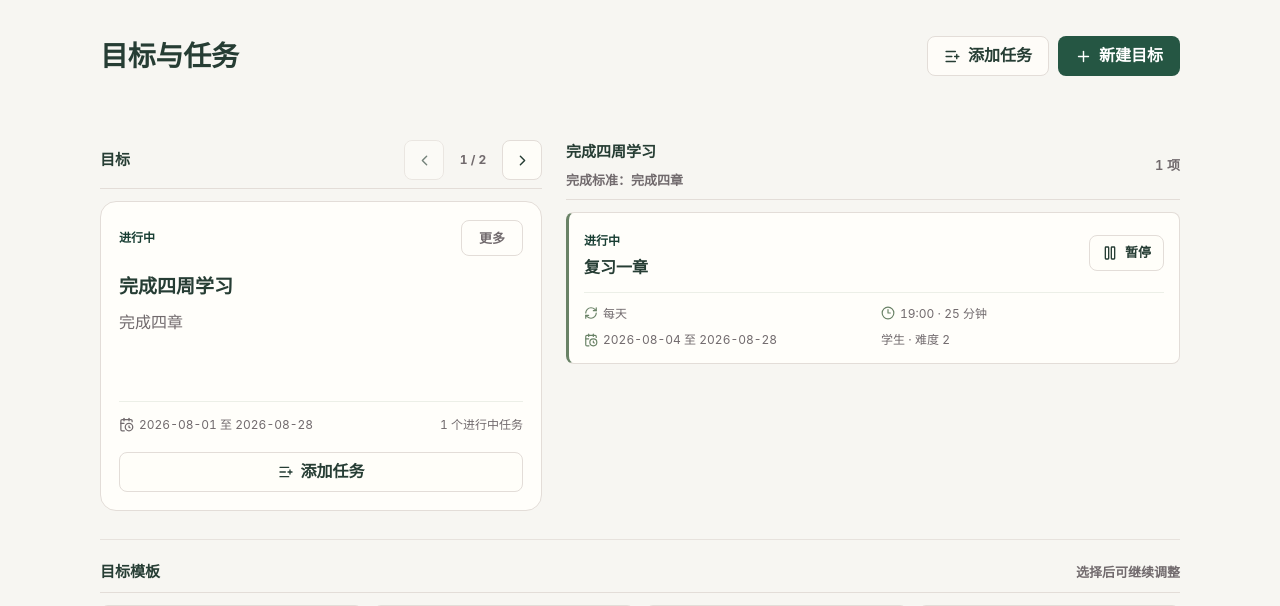
Test case: Goal and task workflow › switches goals and shows only the selected goal tasks
Check: the heading "完成四周学习" below "更多" is shown, box [119, 275, 233, 298]
Check: the element with class "task-list" shows "复习一章", box [584, 257, 648, 277]
Click the button named "下一个目标": (522, 160) [502, 140, 542, 180]
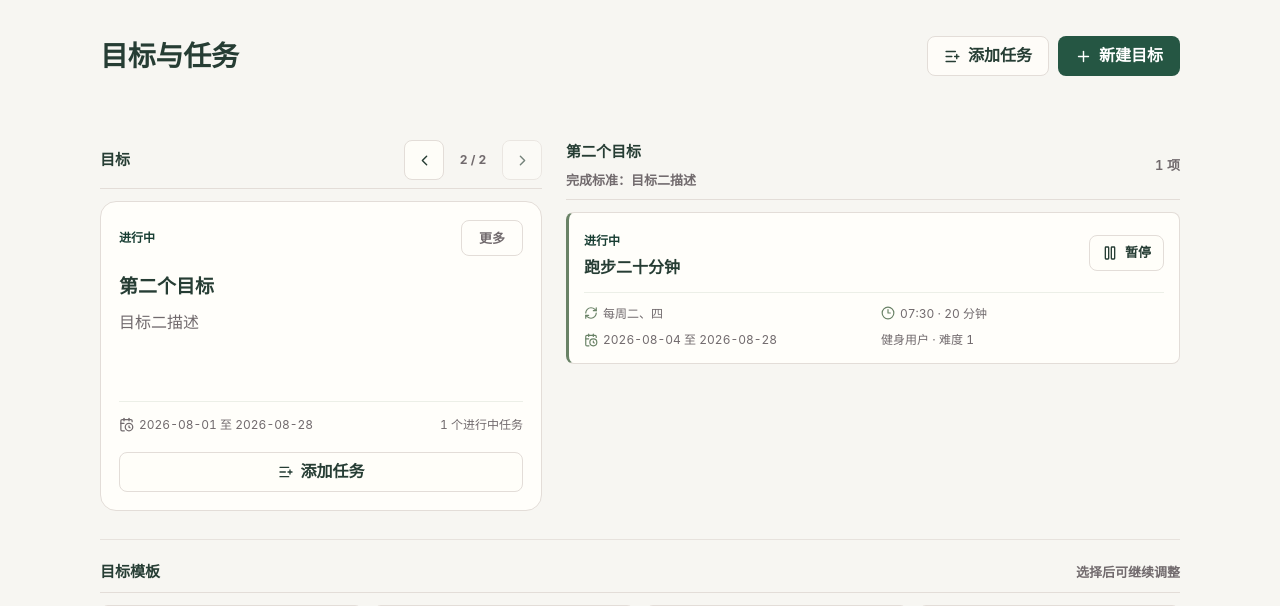
Check: the heading "第二个目标" below "更多" is shown, box [119, 275, 214, 298]
Check: the element with class "task-list" shows "跑步二十分钟", box [584, 257, 680, 277]
Check: the heading with class "task-list" no longer shows "复习一章"
